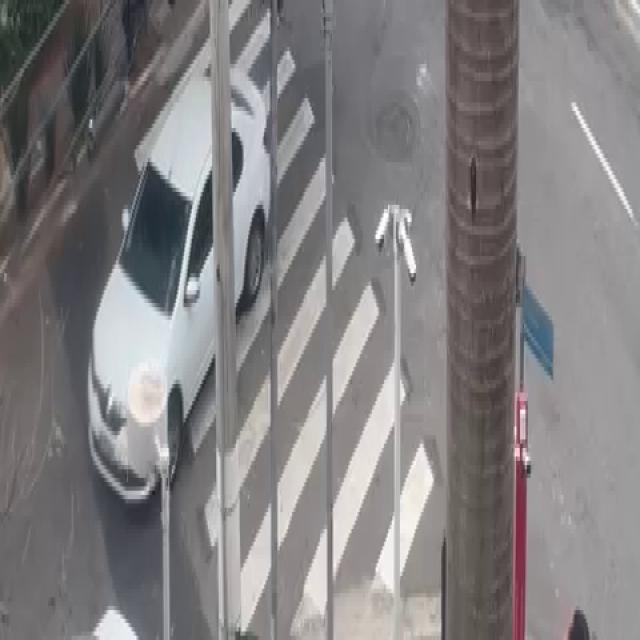car: (62, 54, 292, 518)
